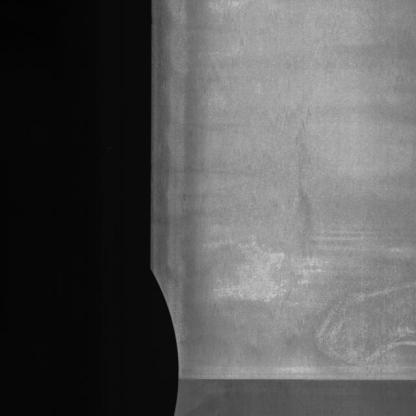welding_line: (168, 362, 414, 392)
